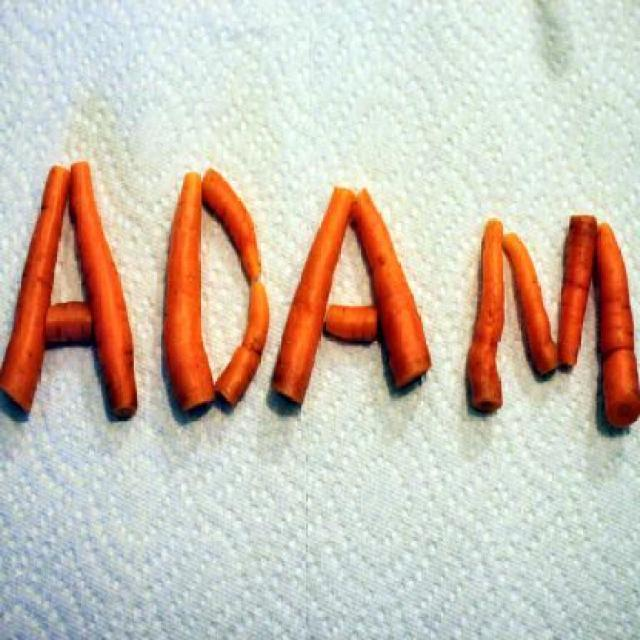Carrot: (268, 186, 354, 409), (347, 182, 436, 392), (0, 157, 72, 414), (72, 158, 140, 418), (160, 169, 220, 420), (594, 214, 638, 436), (498, 230, 562, 379), (207, 276, 270, 415), (196, 162, 262, 280), (468, 216, 508, 410), (552, 214, 602, 368), (322, 300, 380, 346), (45, 296, 93, 347)
